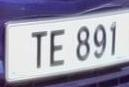1: (108, 20, 121, 61)
8: (74, 22, 93, 67)
9: (91, 20, 109, 64)
E: (48, 27, 69, 74)
T: (28, 26, 50, 75)
